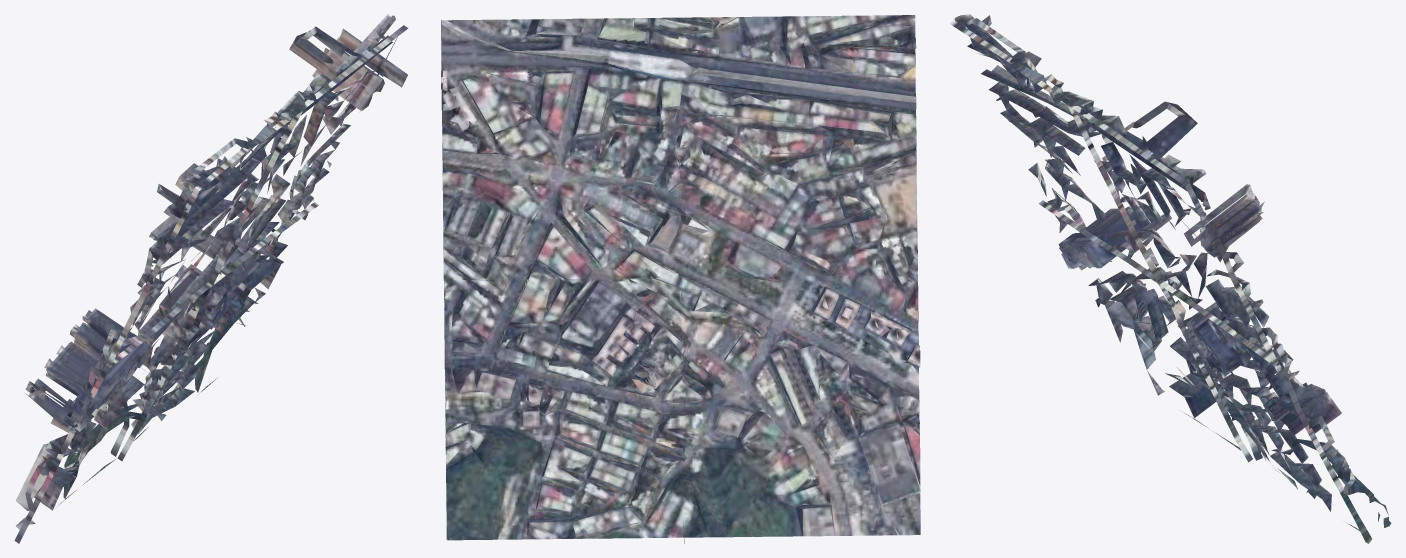
3 views of the same model, side by side, from view 1: azimuth 30°, elevation 25°; view 2: azimuth 150°, elevation 25°; view 3: azimuth 270°, elevation 25° (orthographic). The views are drawn at different scales.
Bounding box in the file's own units: 612 × 584 × 544.
Materials: 2 (2 with a texture image).
